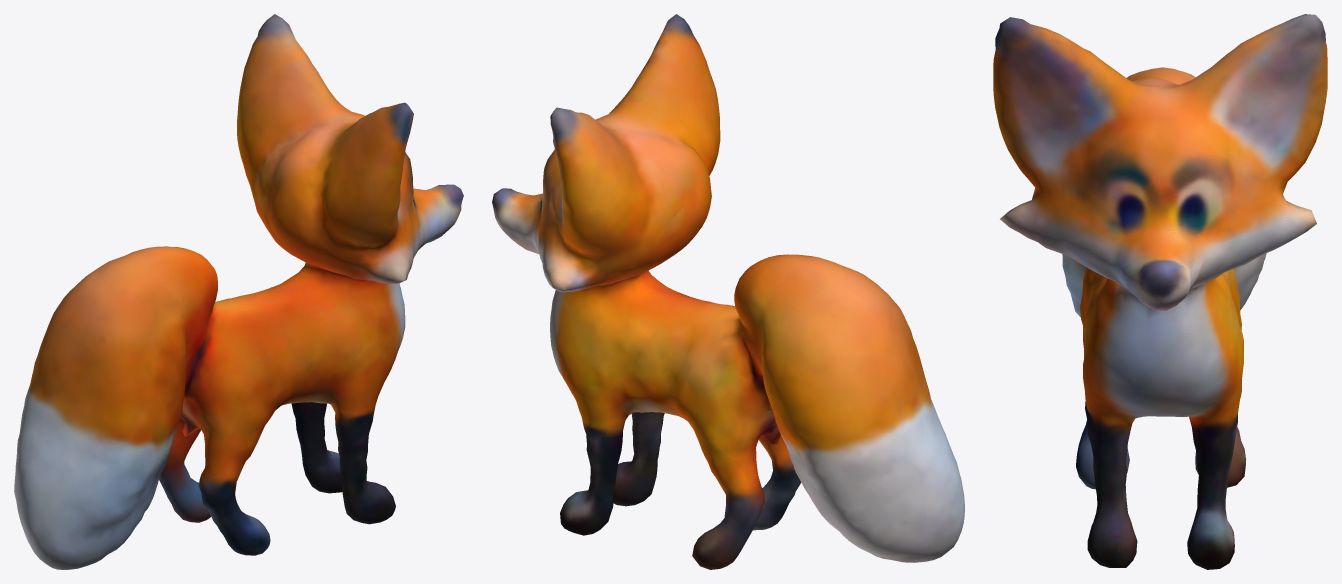
Rendered from Create_fox_with_Long_narrow_face_with_large_eyes_and_thin_e_0614154722_preview.obj.
3 renders of one model, left to right at view 1: azimuth 30°, elevation 25°; view 2: azimuth 150°, elevation 25°; view 3: azimuth 270°, elevation 25°, orthographic. The views are drawn at different scales.
Visible parts, largest first — view 1: Mesh1; view 2: Mesh1; view 3: Mesh1.
Boxes of the visible parts, left/top/right/bottom form: Mesh1: left=14, top=14, right=463, bottom=569; Mesh1: left=492, top=14, right=964, bottom=569; Mesh1: left=993, top=14, right=1327, bottom=569.
Bounding box in the file's own units: 1.2 × 1.16 × 0.6452.
Materials: 1 (1 with a texture image).
